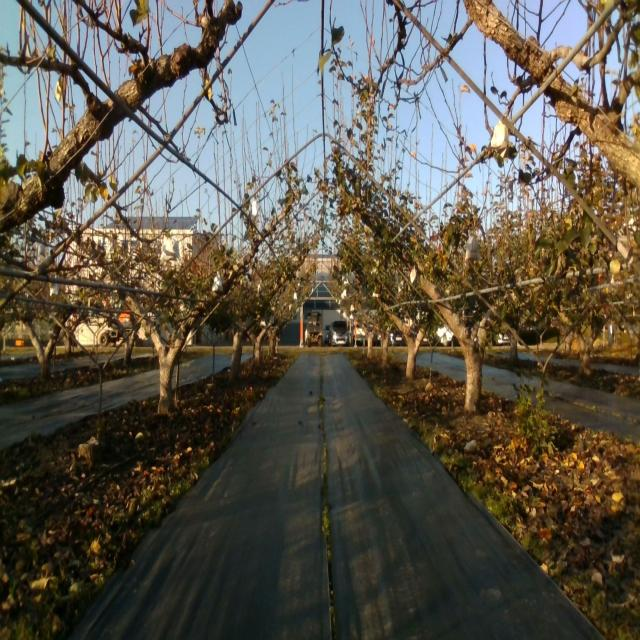pearbags: (490, 117, 509, 165), (160, 235, 179, 261), (464, 234, 480, 262), (212, 270, 224, 291)
